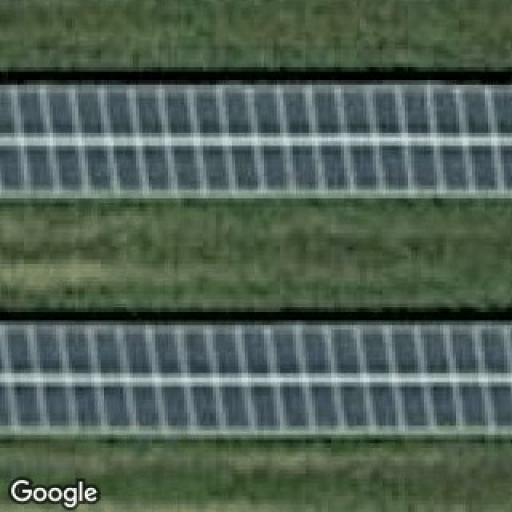solar-panel: (0, 82, 512, 200), (0, 325, 512, 437)
